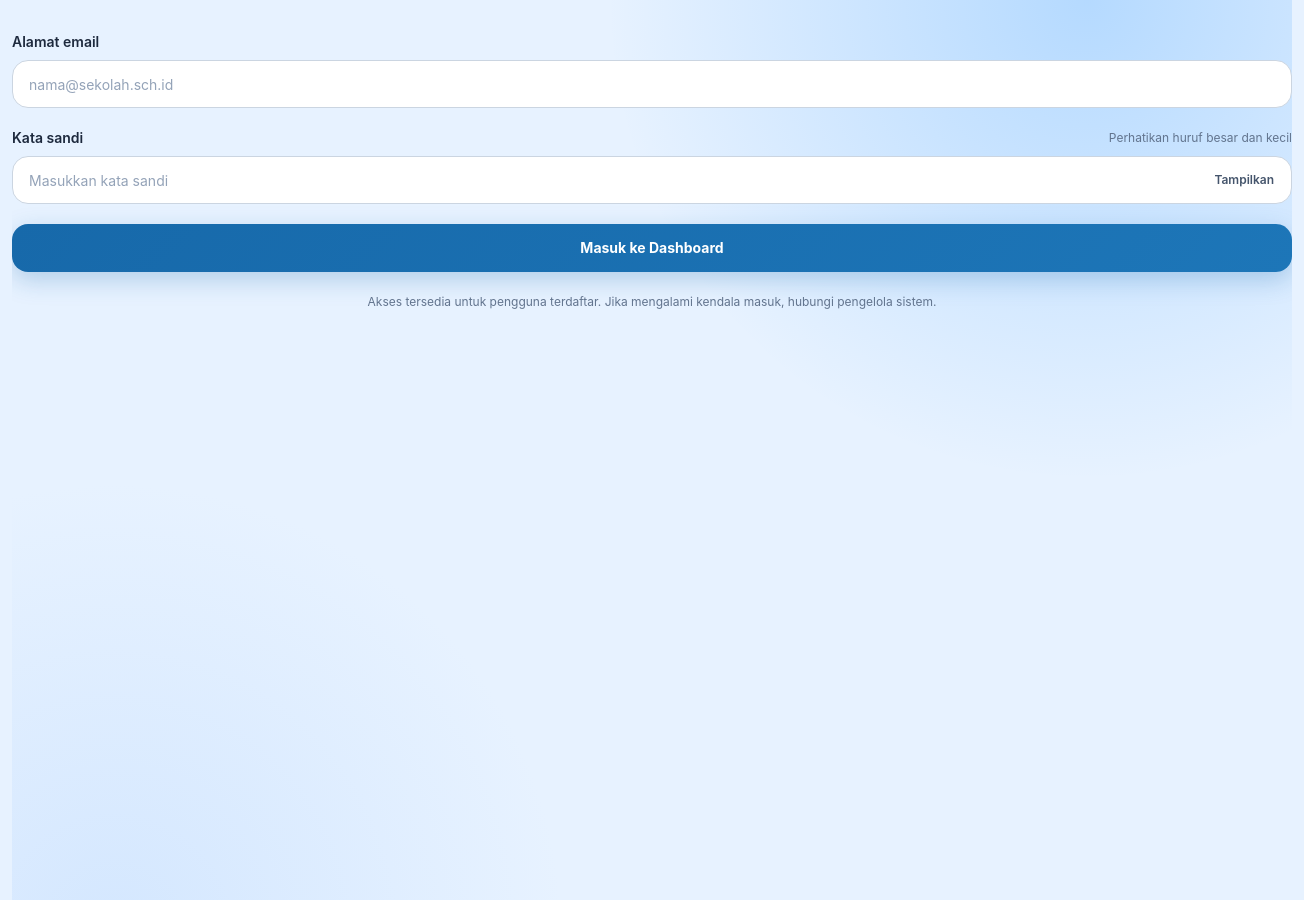
Test: LoginForm › shows a distinct availability message when the API cannot be reached
This screenshot has width=1304, height=900.
In the field labelled "Alamat email": (652, 84) [12,60,1292,108], type "admin@example.invalid"
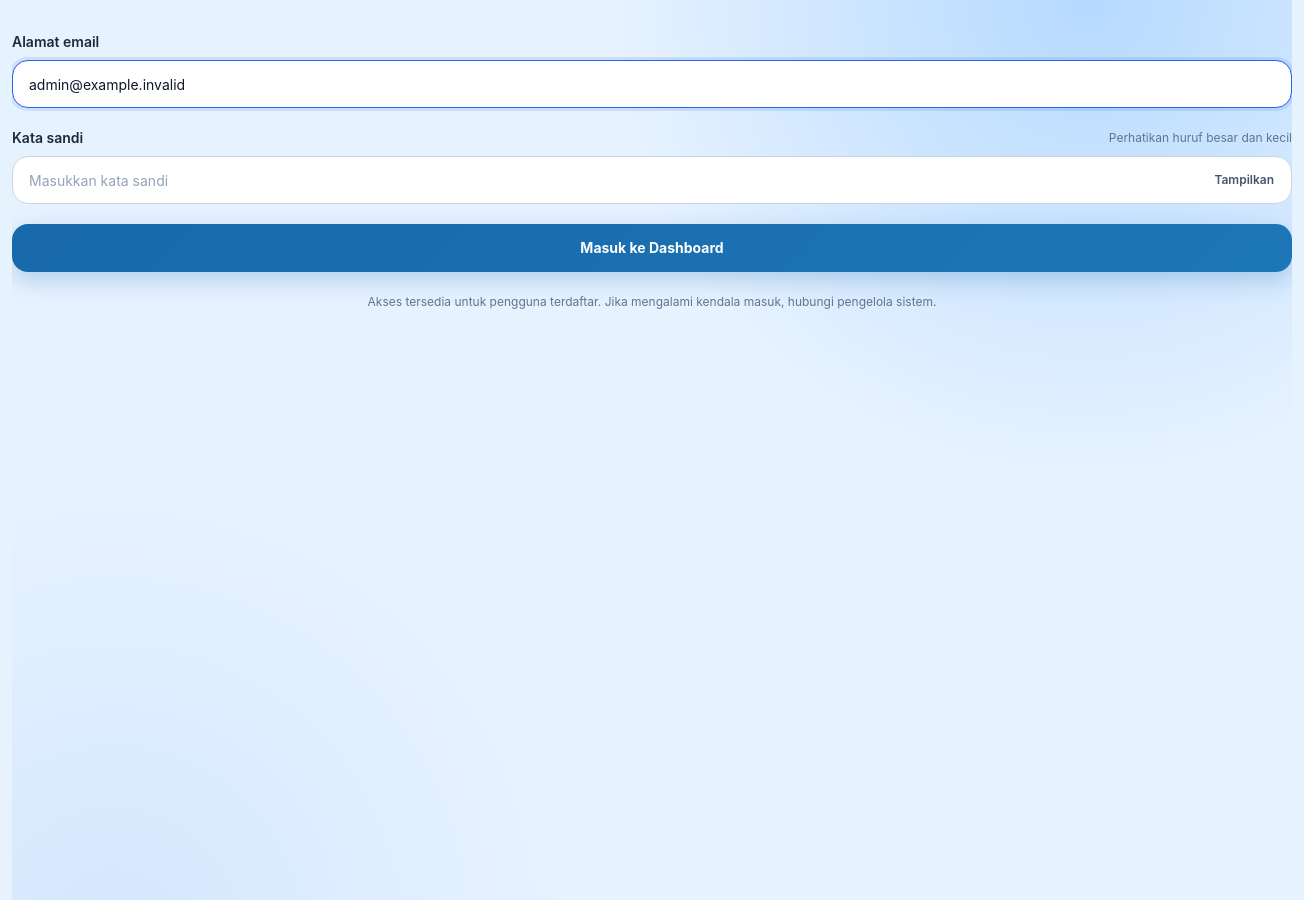
In the password field labelled "Kata sandi": (652, 180) [12,156,1292,204], type "wrong-password"
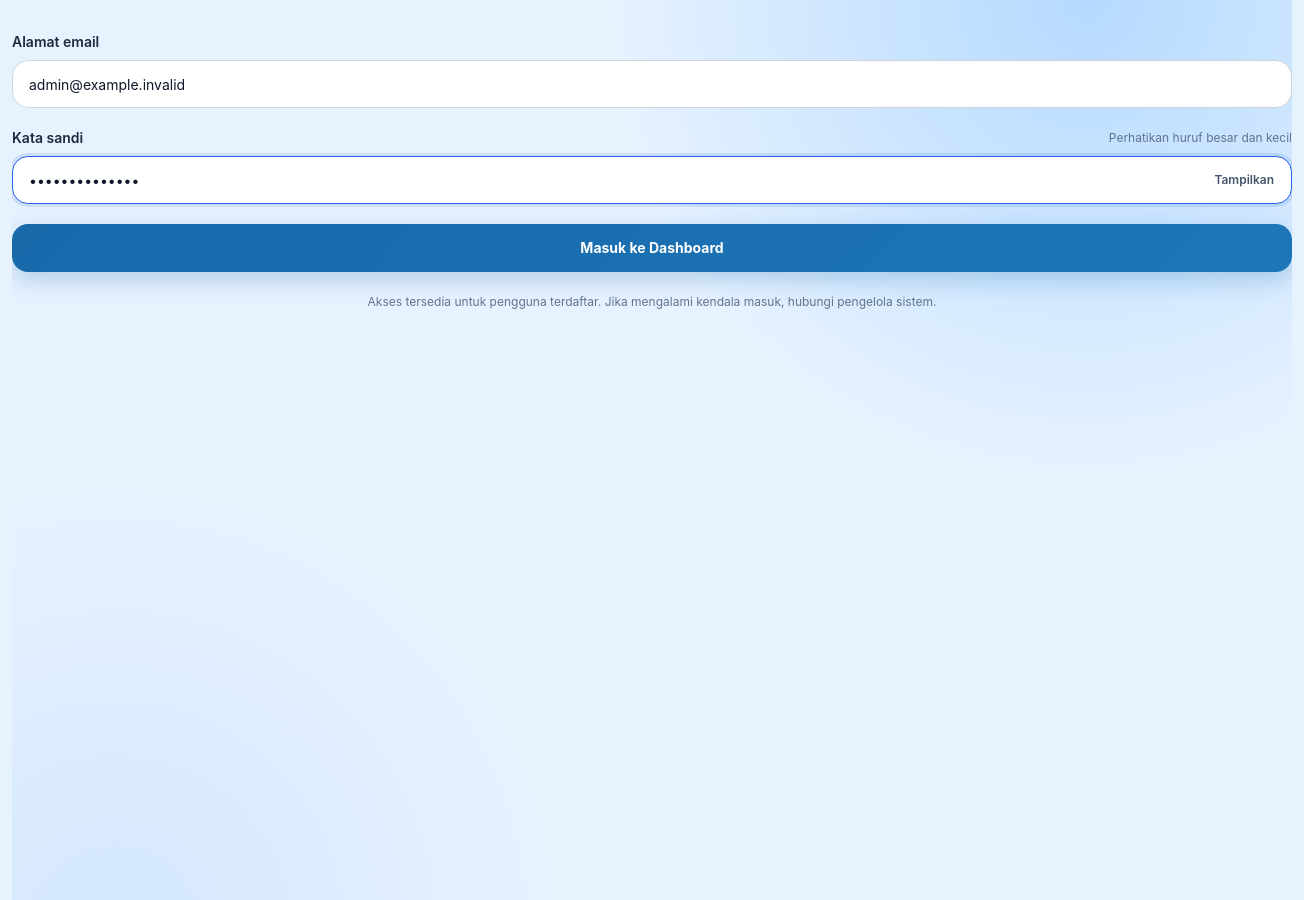
Click the button "Masuk ke Dashboard": click(652, 248) [12,224,1292,272]
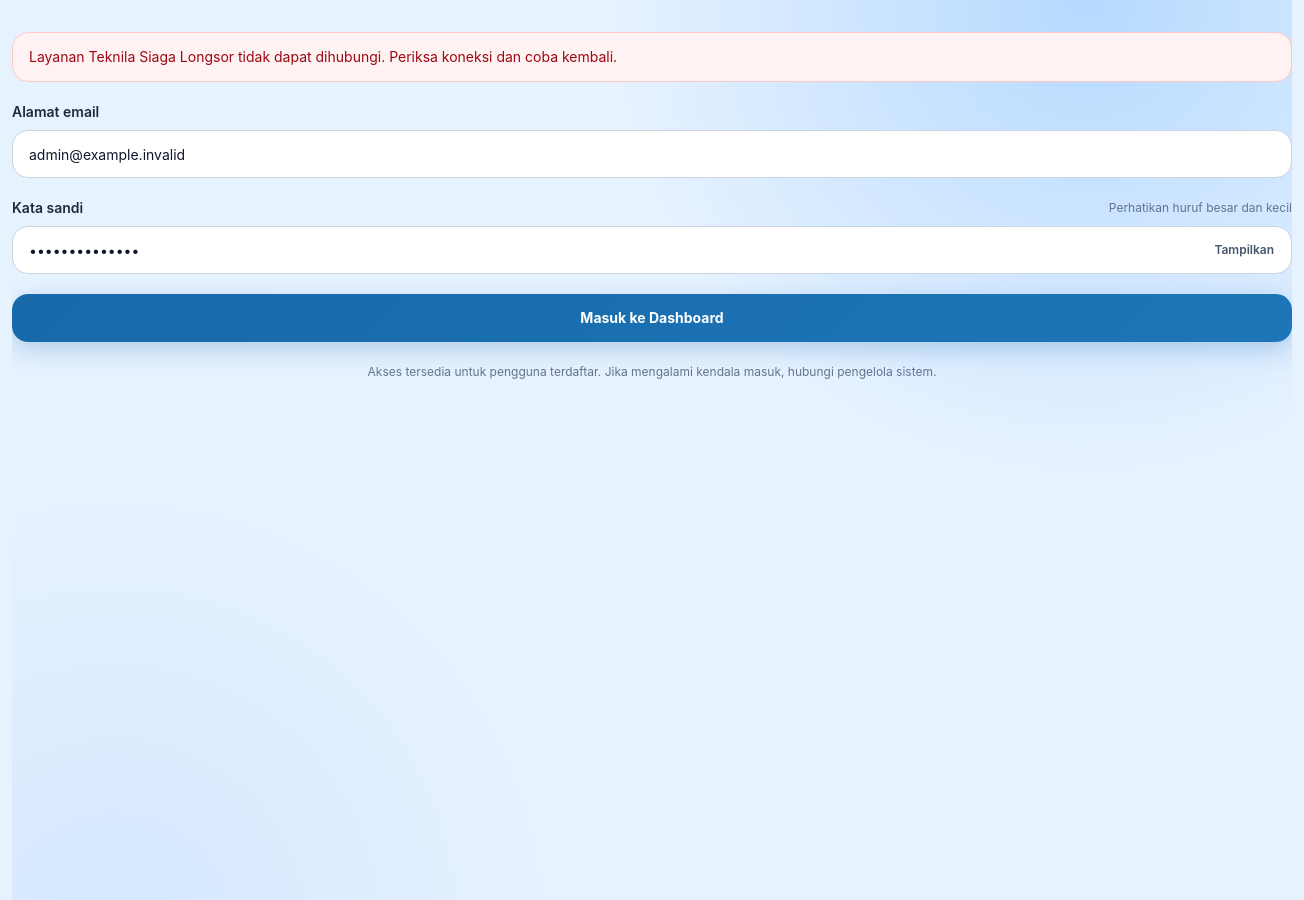
Check: the message shows "Layanan Teknila Siaga Longsor tidak dapat dihubungi", box [29,48,617,65]
